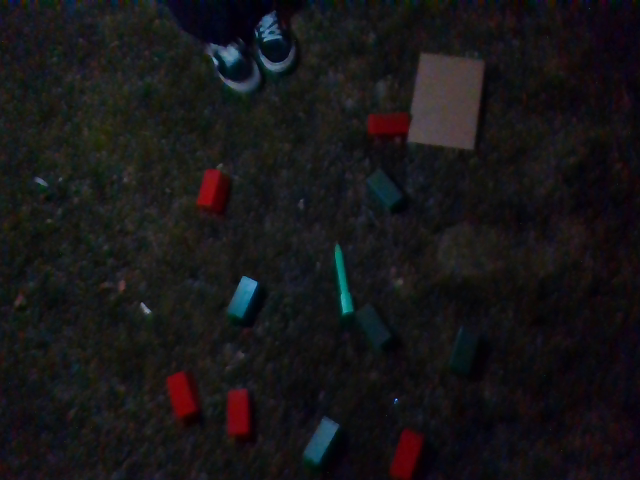Probe: (327, 240, 358, 322)
